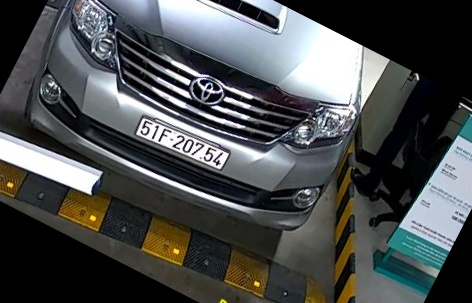plate: (136, 113, 232, 178)
